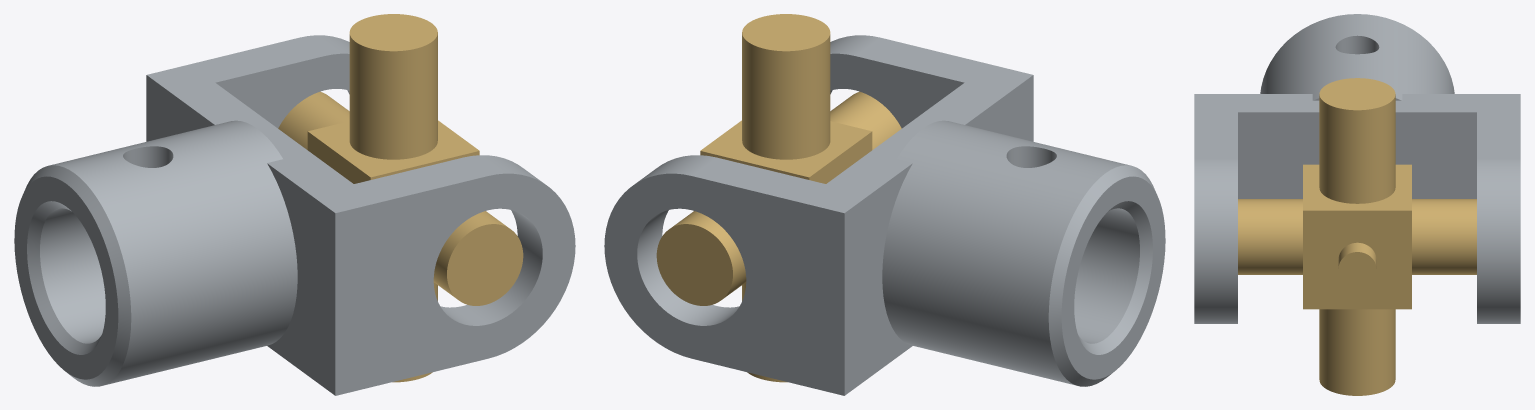
File: step_15.glb
3 views of the same model, side by side, from view 1: azimuth 30°, elevation 25°; view 2: azimuth 150°, elevation 25°; view 3: azimuth 270°, elevation 25° (orthographic). The views are drawn at different scales.
Visible parts, largest first — view 1: part__input yoke, part__cross (spider); view 2: part__input yoke, part__cross (spider); view 3: part__input yoke, part__cross (spider).
Boxes of the visible parts, left/top/right/bottom form: part__input yoke: left=14, top=35, right=575, bottom=395; part__cross (spider): left=278, top=14, right=523, bottom=382; part__input yoke: left=604, top=35, right=1165, bottom=395; part__cross (spider): left=656, top=14, right=901, bottom=382; part__input yoke: left=1194, top=14, right=1520, bottom=323; part__cross (spider): left=1238, top=78, right=1476, bottom=395.
Size of the model in its own units: 76 by 58 by 60.
